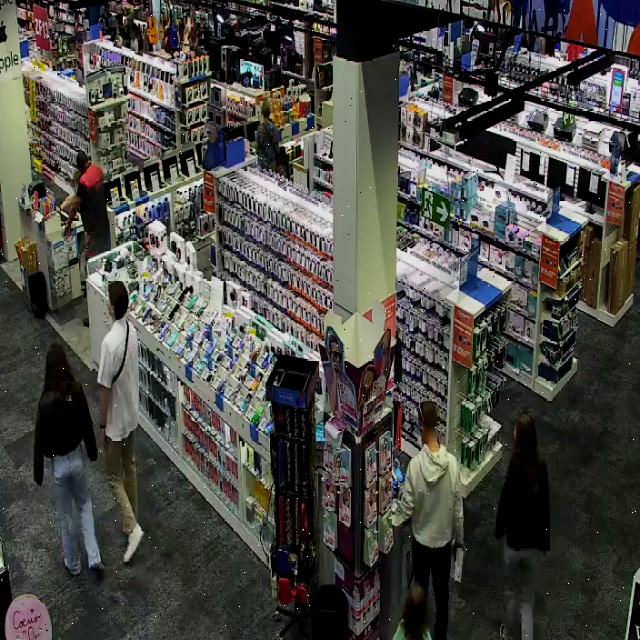article: (453, 547, 464, 581)
hands: (97, 427, 113, 446)
person: (394, 401, 463, 639), (34, 344, 103, 576), (97, 280, 144, 562), (495, 414, 549, 639)
